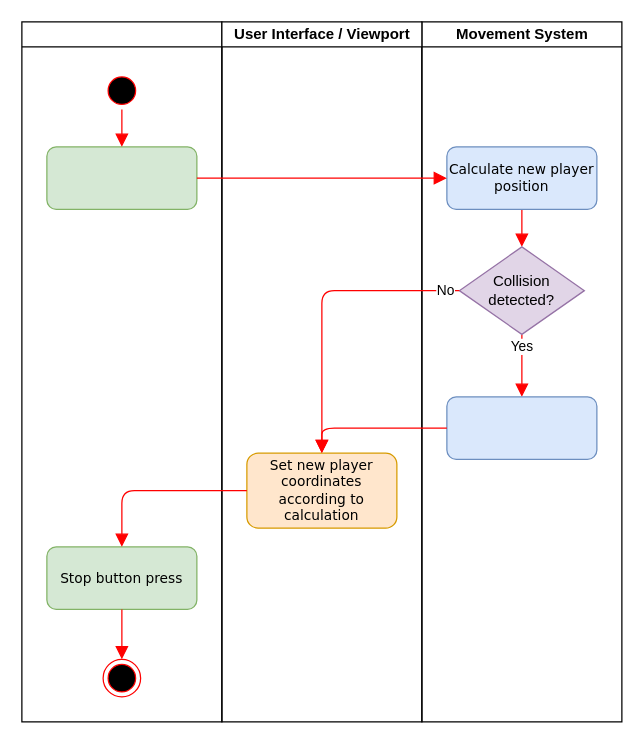
Some shapes in this 644 by 744 pixel diagram are drawn without their labels. The shapes that lost their labels are listed below. From the top down, each one's box as (x1, y1, x2, y2) in pixels, then its label:
(46, 146, 197, 209): Press one or multiple movement buttons
(21, 21, 222, 722): User
(446, 396, 597, 459): Stop motion / prevent clipping
